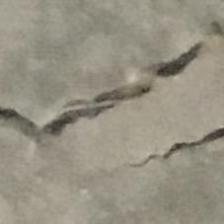Crack: (0, 51, 224, 173)
